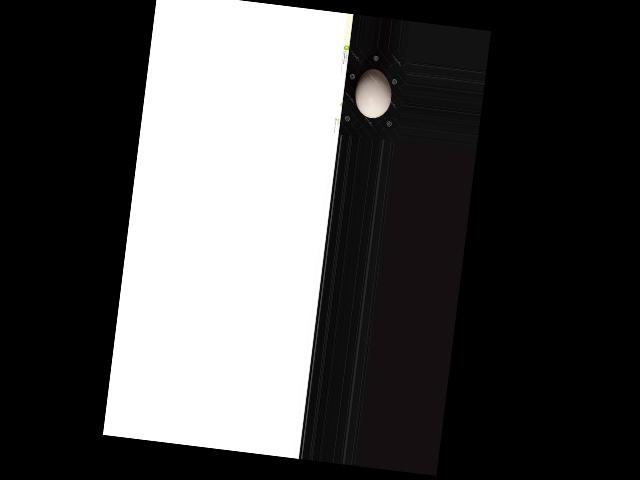egg: (352, 67, 394, 120)
